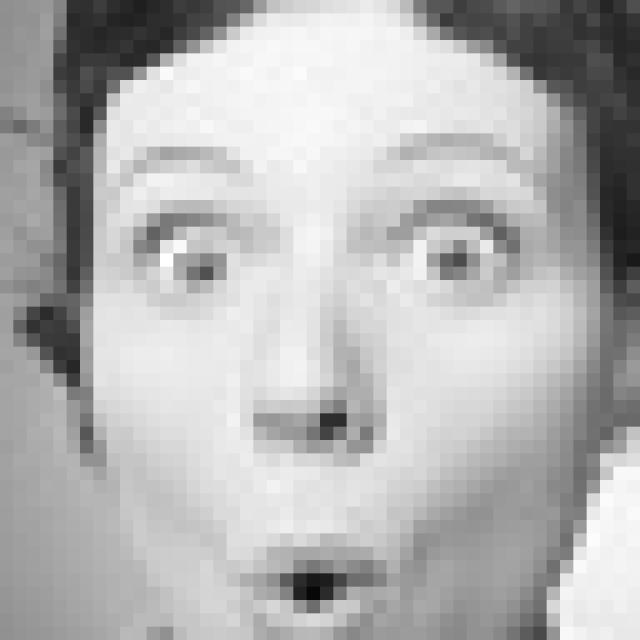surprise: (97, 139, 567, 640)
